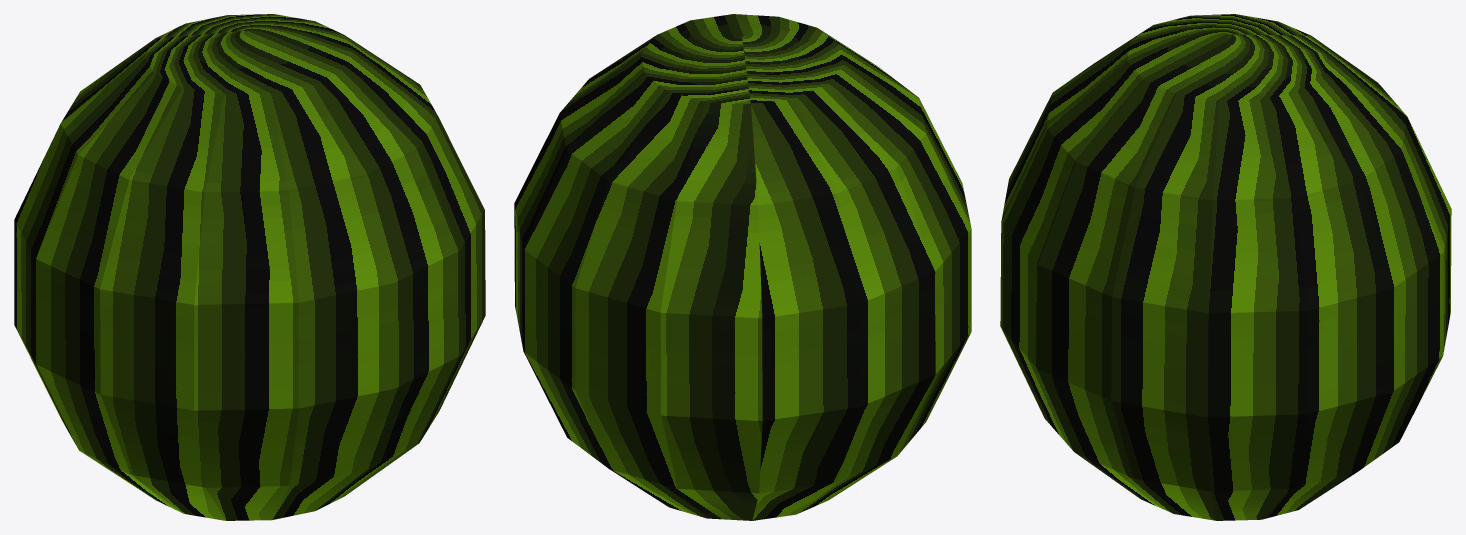
The model's file is Melon.fbx.
3 views of the same model, side by side, from view 1: azimuth 30°, elevation 25°; view 2: azimuth 150°, elevation 25°; view 3: azimuth 270°, elevation 25° (orthographic). The views are drawn at different scales.
Parts seen in each view (by area): view 1: shot_20260405070034.005; view 2: shot_20260405070034.005; view 3: shot_20260405070034.005.
Boxes of the visible parts, x1,y1,x2,y2 form: shot_20260405070034.005: [14, 14, 485, 520]; shot_20260405070034.005: [514, 14, 971, 520]; shot_20260405070034.005: [1000, 14, 1451, 520].
Bounding box in the file's own units: 364 × 401 × 352.
